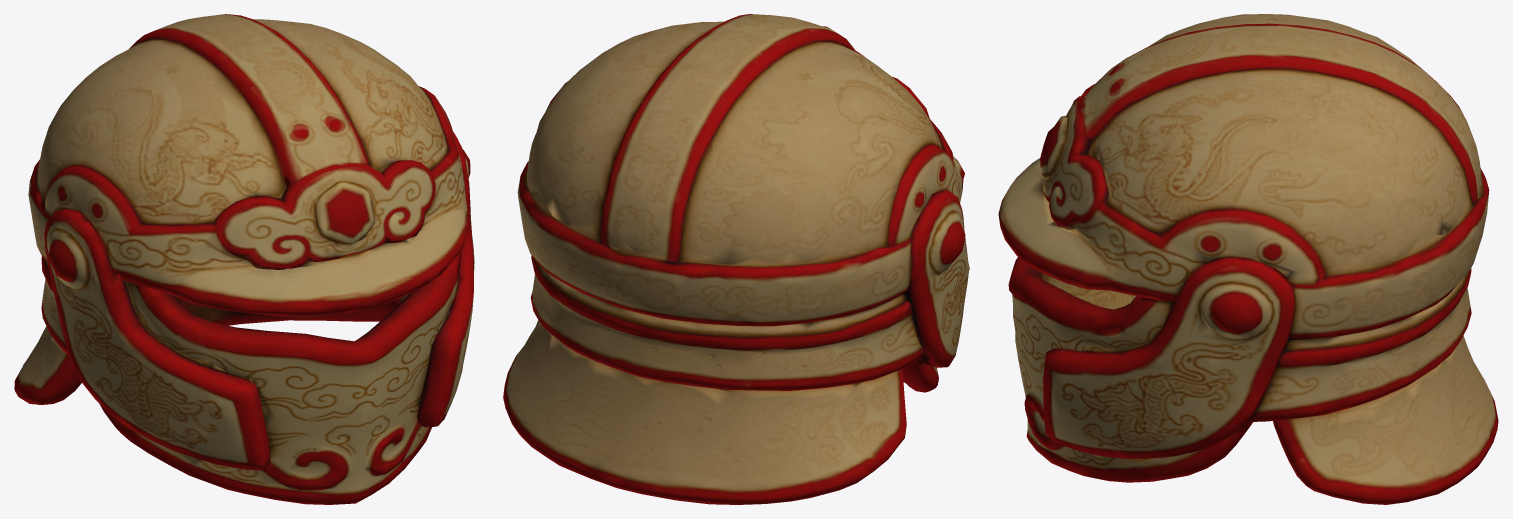
File: guofengtoukui12.fbx
The picture shows the model from 3 angles, left to right: view 1: azimuth 30°, elevation 25°; view 2: azimuth 150°, elevation 25°; view 3: azimuth 270°, elevation 25°; orthographic projection. The views are drawn at different scales.
Visible parts, largest first — view 1: node_3da28500; view 2: node_3da28500; view 3: node_3da28500.
Boxes of the visible parts, bbox=[...] form: node_3da28500: bbox=[14, 14, 474, 504]; node_3da28500: bbox=[503, 14, 969, 504]; node_3da28500: bbox=[998, 14, 1498, 504].
Size of the model in its own units: 0.6862 by 0.6185 by 0.6818.
